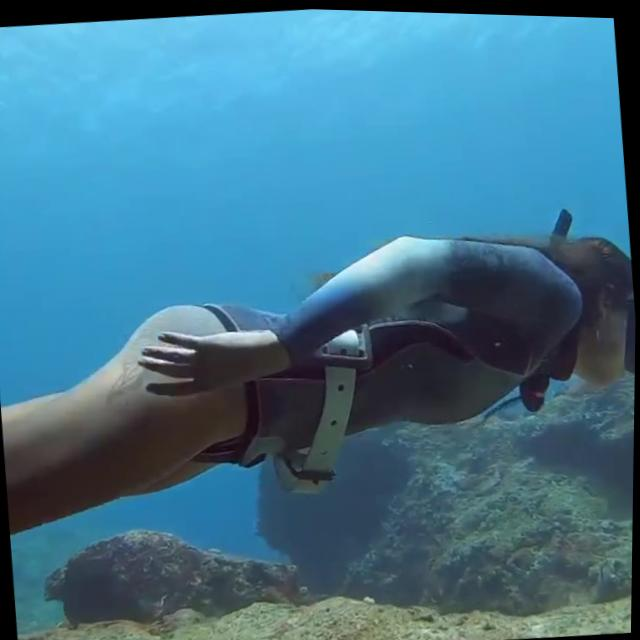human: (0, 170, 638, 581)
